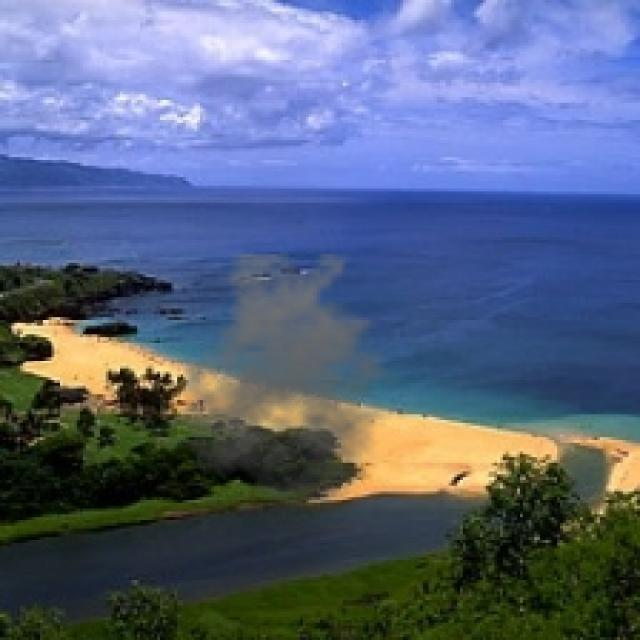Smoke: (168, 255, 414, 514)
